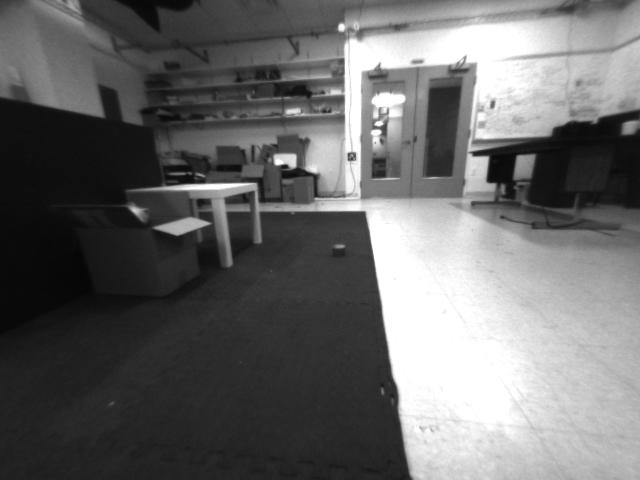dogtoy: (327, 235, 351, 270)
